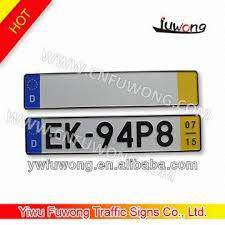4: (117, 121, 134, 148)
8: (156, 119, 175, 148)
9: (95, 121, 114, 149)
E: (44, 123, 64, 150)
K: (63, 121, 83, 151)
P: (136, 121, 153, 149)
